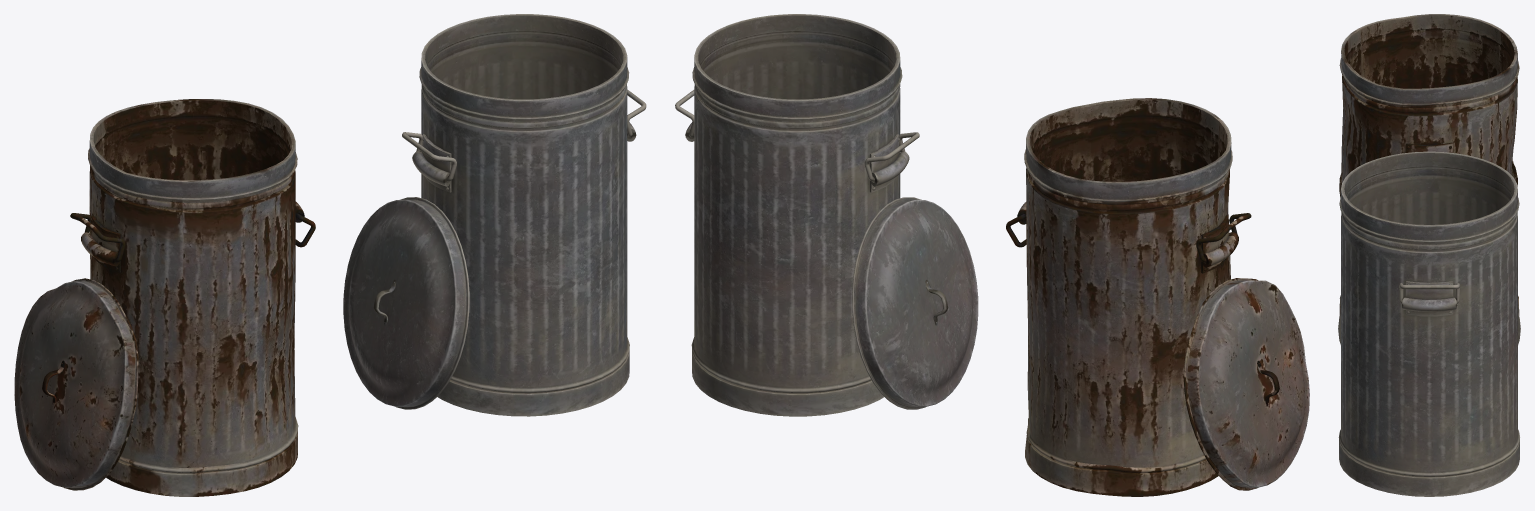
The model's file is metal_trash_can.glb.
3 renders of one model, left to right at view 1: azimuth 30°, elevation 25°; view 2: azimuth 150°, elevation 25°; view 3: azimuth 270°, elevation 25°, orthographic. The views are drawn at different scales.
Parts seen in each view (by area): view 1: metal_trash_can, metal_trash_can_rust, metal_trash_can_lid, metal_trash_can_rust_lid; view 2: metal_trash_can, metal_trash_can_rust, metal_trash_can_lid, metal_trash_can_rust_lid; view 3: metal_trash_can, metal_trash_can_rust, metal_trash_can_handle_right.
Part boxes in pixels (bbox=[...]): metal_trash_can: bbox=[412, 14, 636, 416]; metal_trash_can_rust: bbox=[81, 99, 304, 496]; metal_trash_can_lid: bbox=[343, 197, 469, 409]; metal_trash_can_rust_lid: bbox=[14, 278, 138, 490]; metal_trash_can: bbox=[685, 14, 909, 416]; metal_trash_can_rust: bbox=[1017, 98, 1238, 496]; metal_trash_can_lid: bbox=[852, 197, 978, 409]; metal_trash_can_rust_lid: bbox=[1183, 278, 1309, 490]; metal_trash_can: bbox=[1338, 151, 1519, 496]; metal_trash_can_rust: bbox=[1339, 14, 1519, 316]; metal_trash_can_handle_right: bbox=[1399, 283, 1459, 303].
Size of the model in its own units: 1.78 by 0.9062 by 0.5563.
Materials: 2 (2 with a texture image).
